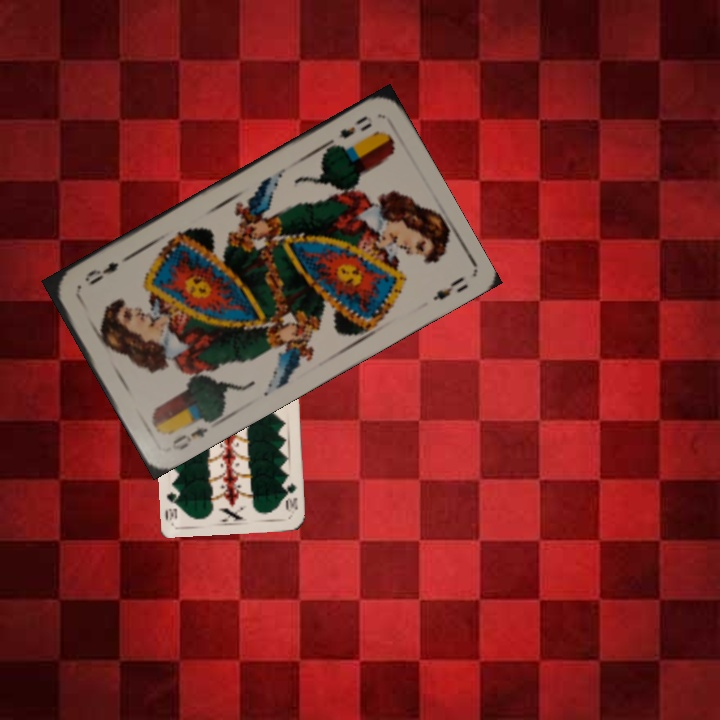EO: (325, 111, 375, 150), (167, 423, 211, 453)
G10: (281, 479, 300, 515)
